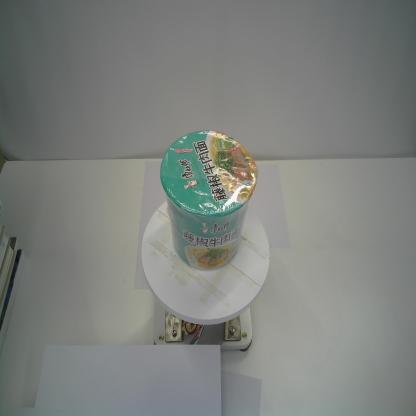Instant Noodles: (158, 127, 262, 272)
